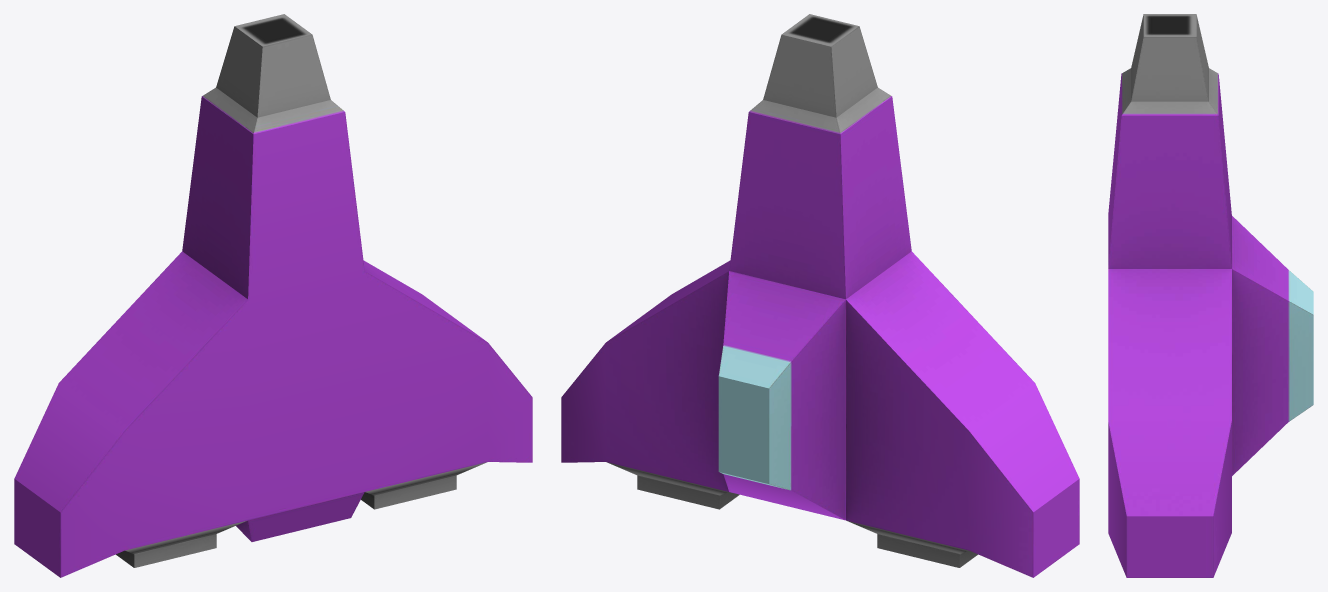
The model's file is player_model.fbx.
3 renders of one model, left to right at view 1: azimuth 30°, elevation 25°; view 2: azimuth 150°, elevation 25°; view 3: azimuth 270°, elevation 25°, orthographic. The views are drawn at different scales.
Visible parts, largest first — view 1: pCube1; view 2: pCube1; view 3: pCube1.
Part boxes in pixels (bbox=[...]): pCube1: bbox=[14, 14, 532, 577]; pCube1: bbox=[561, 14, 1079, 577]; pCube1: bbox=[1108, 14, 1313, 577].
Bounding box in the file's own units: 4.14 × 4.04 × 1.66.
1 material, 1 textured.
